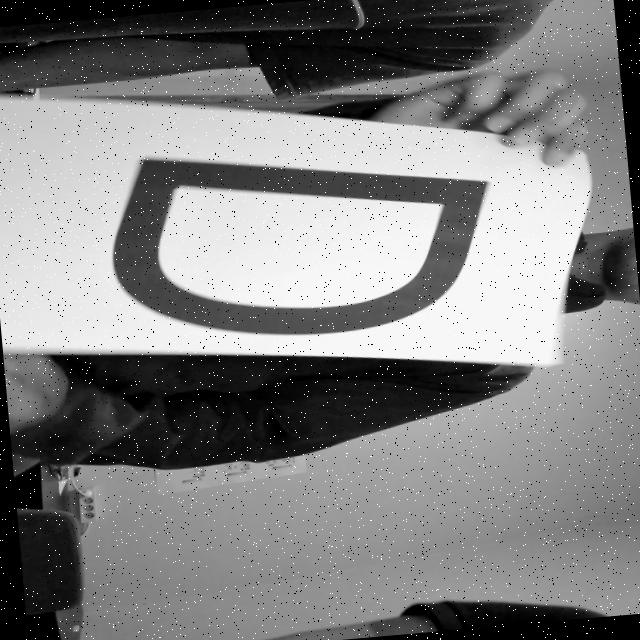d: (78, 122, 518, 360)
